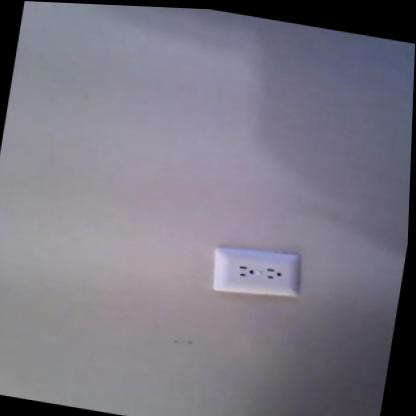OUTLET: (209, 239, 305, 303)
